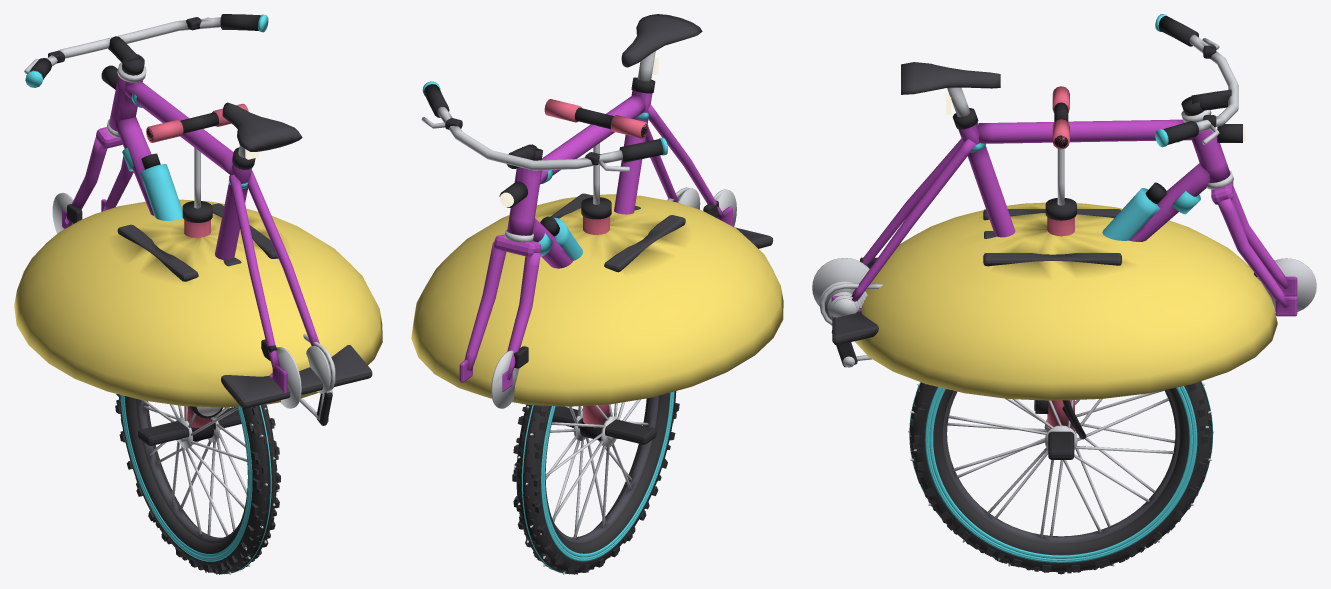
File: bike.glb
3 views of the same model, side by side, from view 1: azimuth 30°, elevation 25°; view 2: azimuth 150°, elevation 25°; view 3: azimuth 270°, elevation 25° (orthographic). The views are drawn at different scales.
Visible parts, largest first — view 1: EchoHelmet, BikeFrame, BikeFork, BikeWheel, TireSpikes, TireSlick, PumpBody, TireAllround, TireKnobby, PumpHandle; view 2: EchoHelmet, BikeFrame, BikeFork, BikeWheel, TireSpikes, TireSlick, PumpBody, TireAllround, TireKnobby, PumpHandle; view 3: EchoHelmet, BikeFrame, BikeFork, BikeWheel, TireSpikes, TireAllround, TireSlick, TireKnobby, PumpBody, PumpHandle.
Part boxes in pixels (bbox=[...]): EchoHelmet: bbox=[14, 199, 382, 408]; BikeFrame: bbox=[101, 62, 335, 425]; BikeFork: bbox=[24, 14, 268, 233]; BikeWheel: bbox=[136, 398, 247, 543]; TireSpikes: bbox=[116, 394, 279, 574]; TireSlick: bbox=[119, 395, 276, 573]; PumpBody: bbox=[138, 201, 241, 445]; TireAllround: bbox=[116, 395, 279, 574]; TireKnobby: bbox=[115, 395, 280, 574]; PumpHandle: bbox=[146, 103, 248, 208]; EchoHelmet: bbox=[411, 193, 783, 406]; BikeFrame: bbox=[499, 14, 736, 268]; BikeFork: bbox=[421, 81, 667, 408]; BikeWheel: bbox=[545, 396, 658, 542]; TireSpikes: bbox=[514, 392, 676, 574]; TireSlick: bbox=[516, 391, 676, 573]; PumpBody: bbox=[552, 197, 656, 444]; TireAllround: bbox=[513, 391, 676, 574]; TireKnobby: bbox=[512, 392, 679, 574]; PumpHandle: bbox=[544, 99, 648, 204]; EchoHelmet: bbox=[832, 202, 1277, 400]; BikeFrame: bbox=[812, 62, 1245, 367]; BikeFork: bbox=[1155, 14, 1316, 316]; BikeWheel: bbox=[942, 389, 1179, 543]; TireSpikes: bbox=[908, 383, 1214, 574]; TireAllround: bbox=[910, 384, 1212, 573]; TireSlick: bbox=[909, 381, 1213, 572]; TireKnobby: bbox=[910, 383, 1212, 573]; PumpBody: bbox=[1034, 198, 1086, 459]; PumpHandle: bbox=[1052, 86, 1069, 205].
Bounding box in the file's own units: 0.84 × 1.28 × 1.16.
